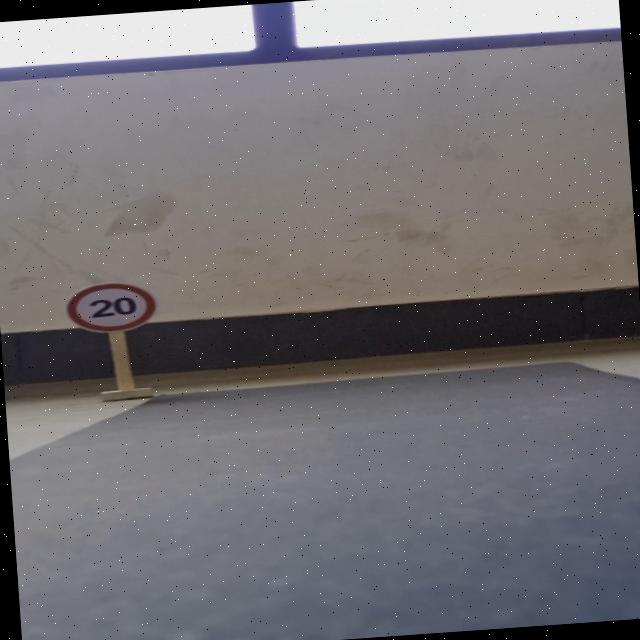Speed20: (51, 271, 169, 340)
